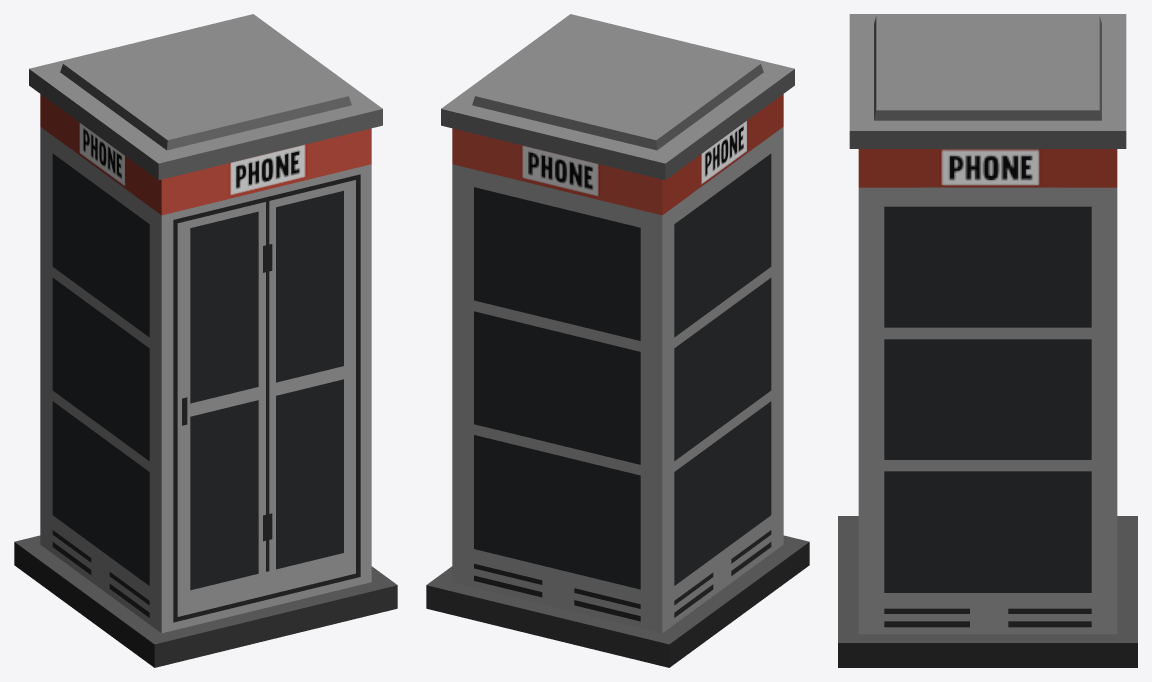
Rendered from SM_PhoneBooth_US_01.fbx.
3 renders of one model, left to right at view 1: azimuth 30°, elevation 25°; view 2: azimuth 150°, elevation 25°; view 3: azimuth 270°, elevation 25°, orthographic. The views are drawn at different scales.
Parts seen in each view (by area): view 1: SM_PhoneBooth_US_01; view 2: SM_PhoneBooth_US_01; view 3: SM_PhoneBooth_US_01.
Part boxes in pixels (left/top/right/bottom): SM_PhoneBooth_US_01: left=14, top=14, right=397, bottom=667; SM_PhoneBooth_US_01: left=426, top=14, right=809, bottom=667; SM_PhoneBooth_US_01: left=838, top=14, right=1137, bottom=667.
Size of the model in its own units: 2.15 by 4.29 by 2.15.
